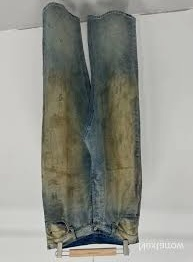earth: (107, 86, 132, 189), (48, 79, 70, 185)
